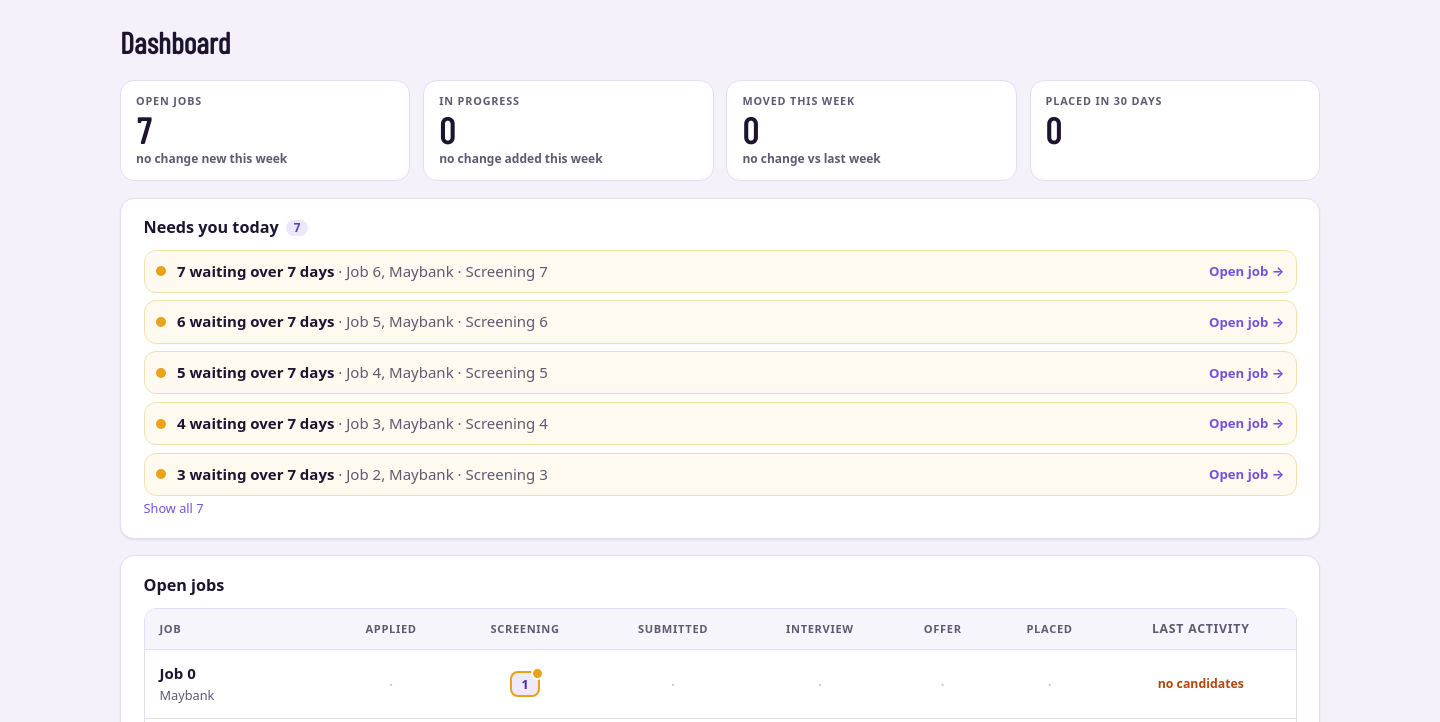
Test: shows the five most urgent things needing you, then all on request
The image size is (1440, 722).
Expected: the number of links with class "todo" is 5, [144, 250, 1296, 293]; [144, 300, 1296, 344]; [144, 351, 1296, 394]; [144, 402, 1296, 445]; [144, 453, 1296, 496]
Expected: the link with class "todo" shows "7 waiting over 7 days · Job 6", [144, 250, 1296, 293]
Click the button "Show all 7" at (174, 509), box [144, 499, 204, 519]
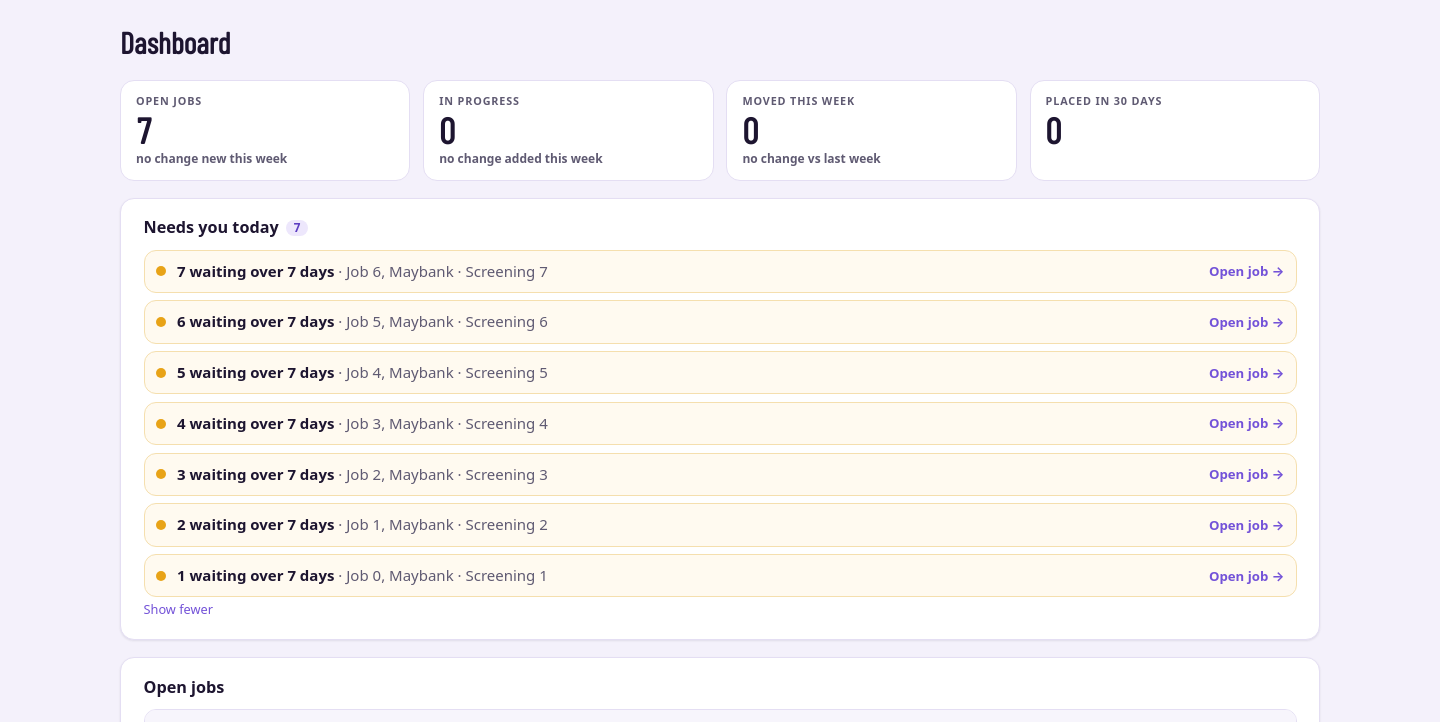
Result: the number of links with class "todo" is 7
